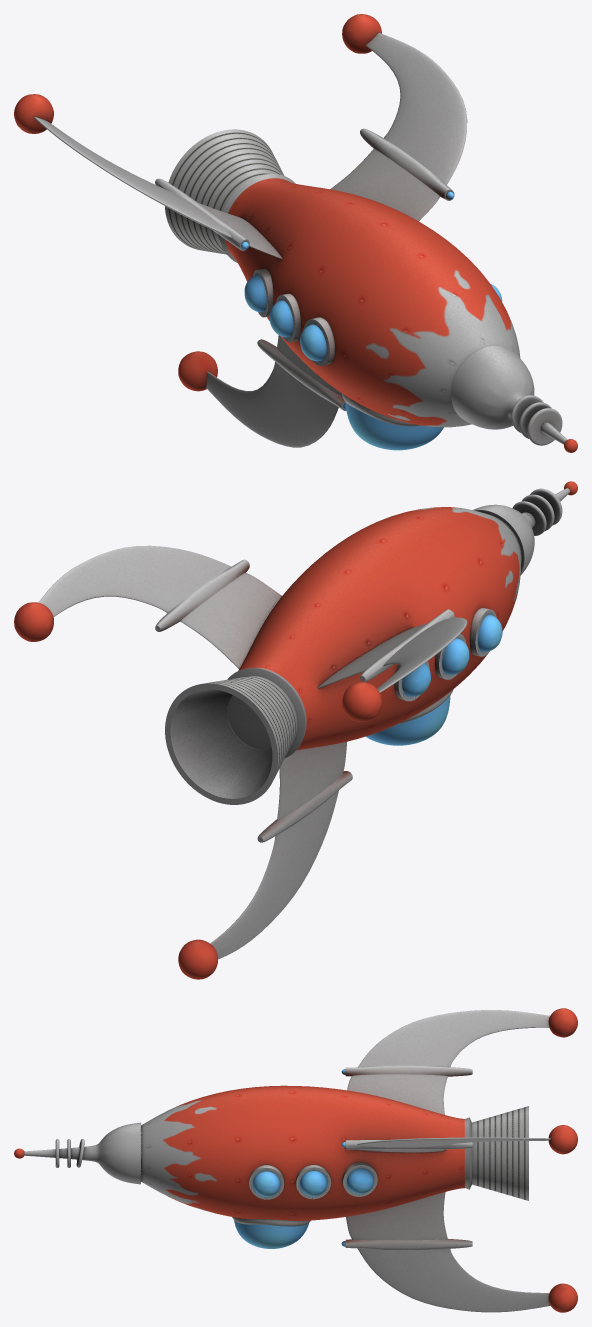
File: rocket.glb
3 views of the same model, one above another, from view 1: azimuth 30°, elevation 25°; view 2: azimuth 150°, elevation 25°; view 3: azimuth 270°, elevation 25° (orthographic). The views are drawn at different scales.
Visible parts, largest first — view 1: 10475_Rocket_Ship_v1_L3; view 2: 10475_Rocket_Ship_v1_L3; view 3: 10475_Rocket_Ship_v1_L3.
Boxes of the visible parts, x1,y1,x2,y2 form: 10475_Rocket_Ship_v1_L3: [14, 14, 577, 452]; 10475_Rocket_Ship_v1_L3: [14, 481, 577, 979]; 10475_Rocket_Ship_v1_L3: [14, 1008, 577, 1312].
Size of the model in its own units: 225 by 199 by 416.
Materials: 2 (2 with a texture image).
